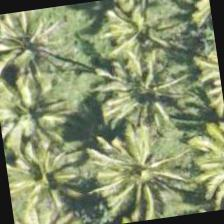Kelapa_Sawit: (92, 122, 195, 223), (97, 47, 198, 149), (0, 114, 92, 214), (90, 0, 192, 87), (0, 65, 80, 165), (0, 6, 73, 97)
